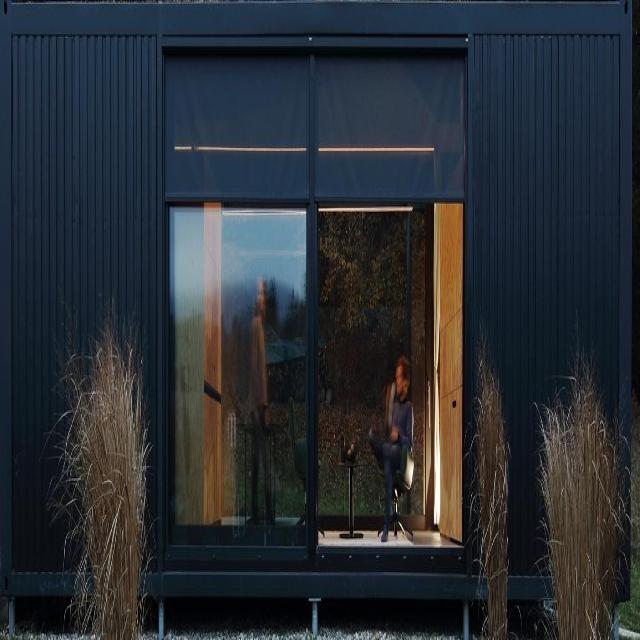window: (168, 201, 313, 567)
